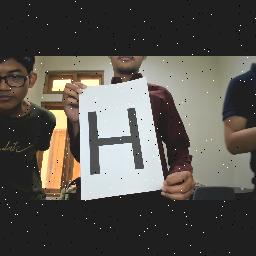h: (84, 104, 148, 180)
